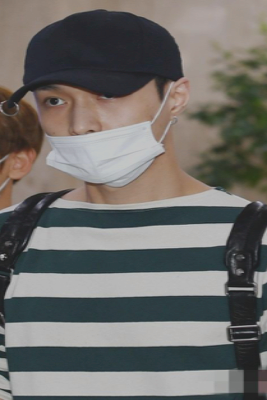mask_weared_incorrect: (35, 86, 169, 184)
